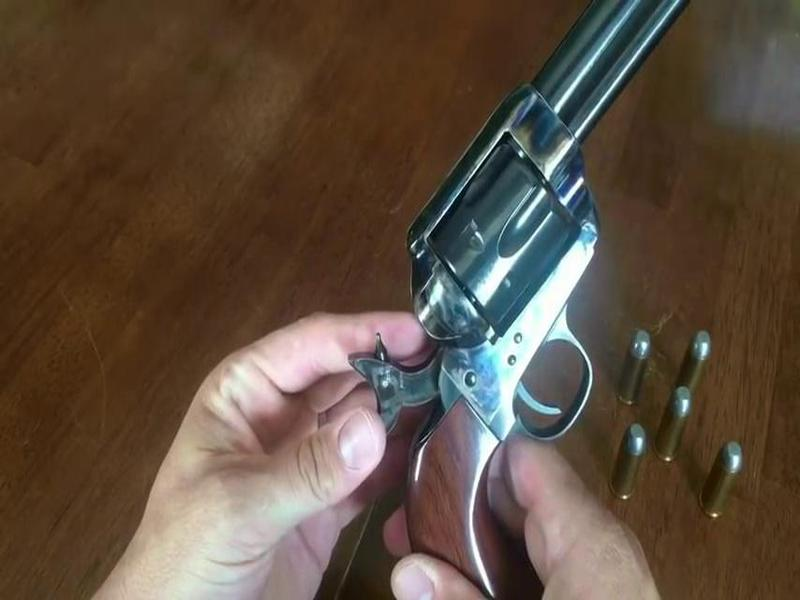Revolver: (331, 6, 636, 499)
